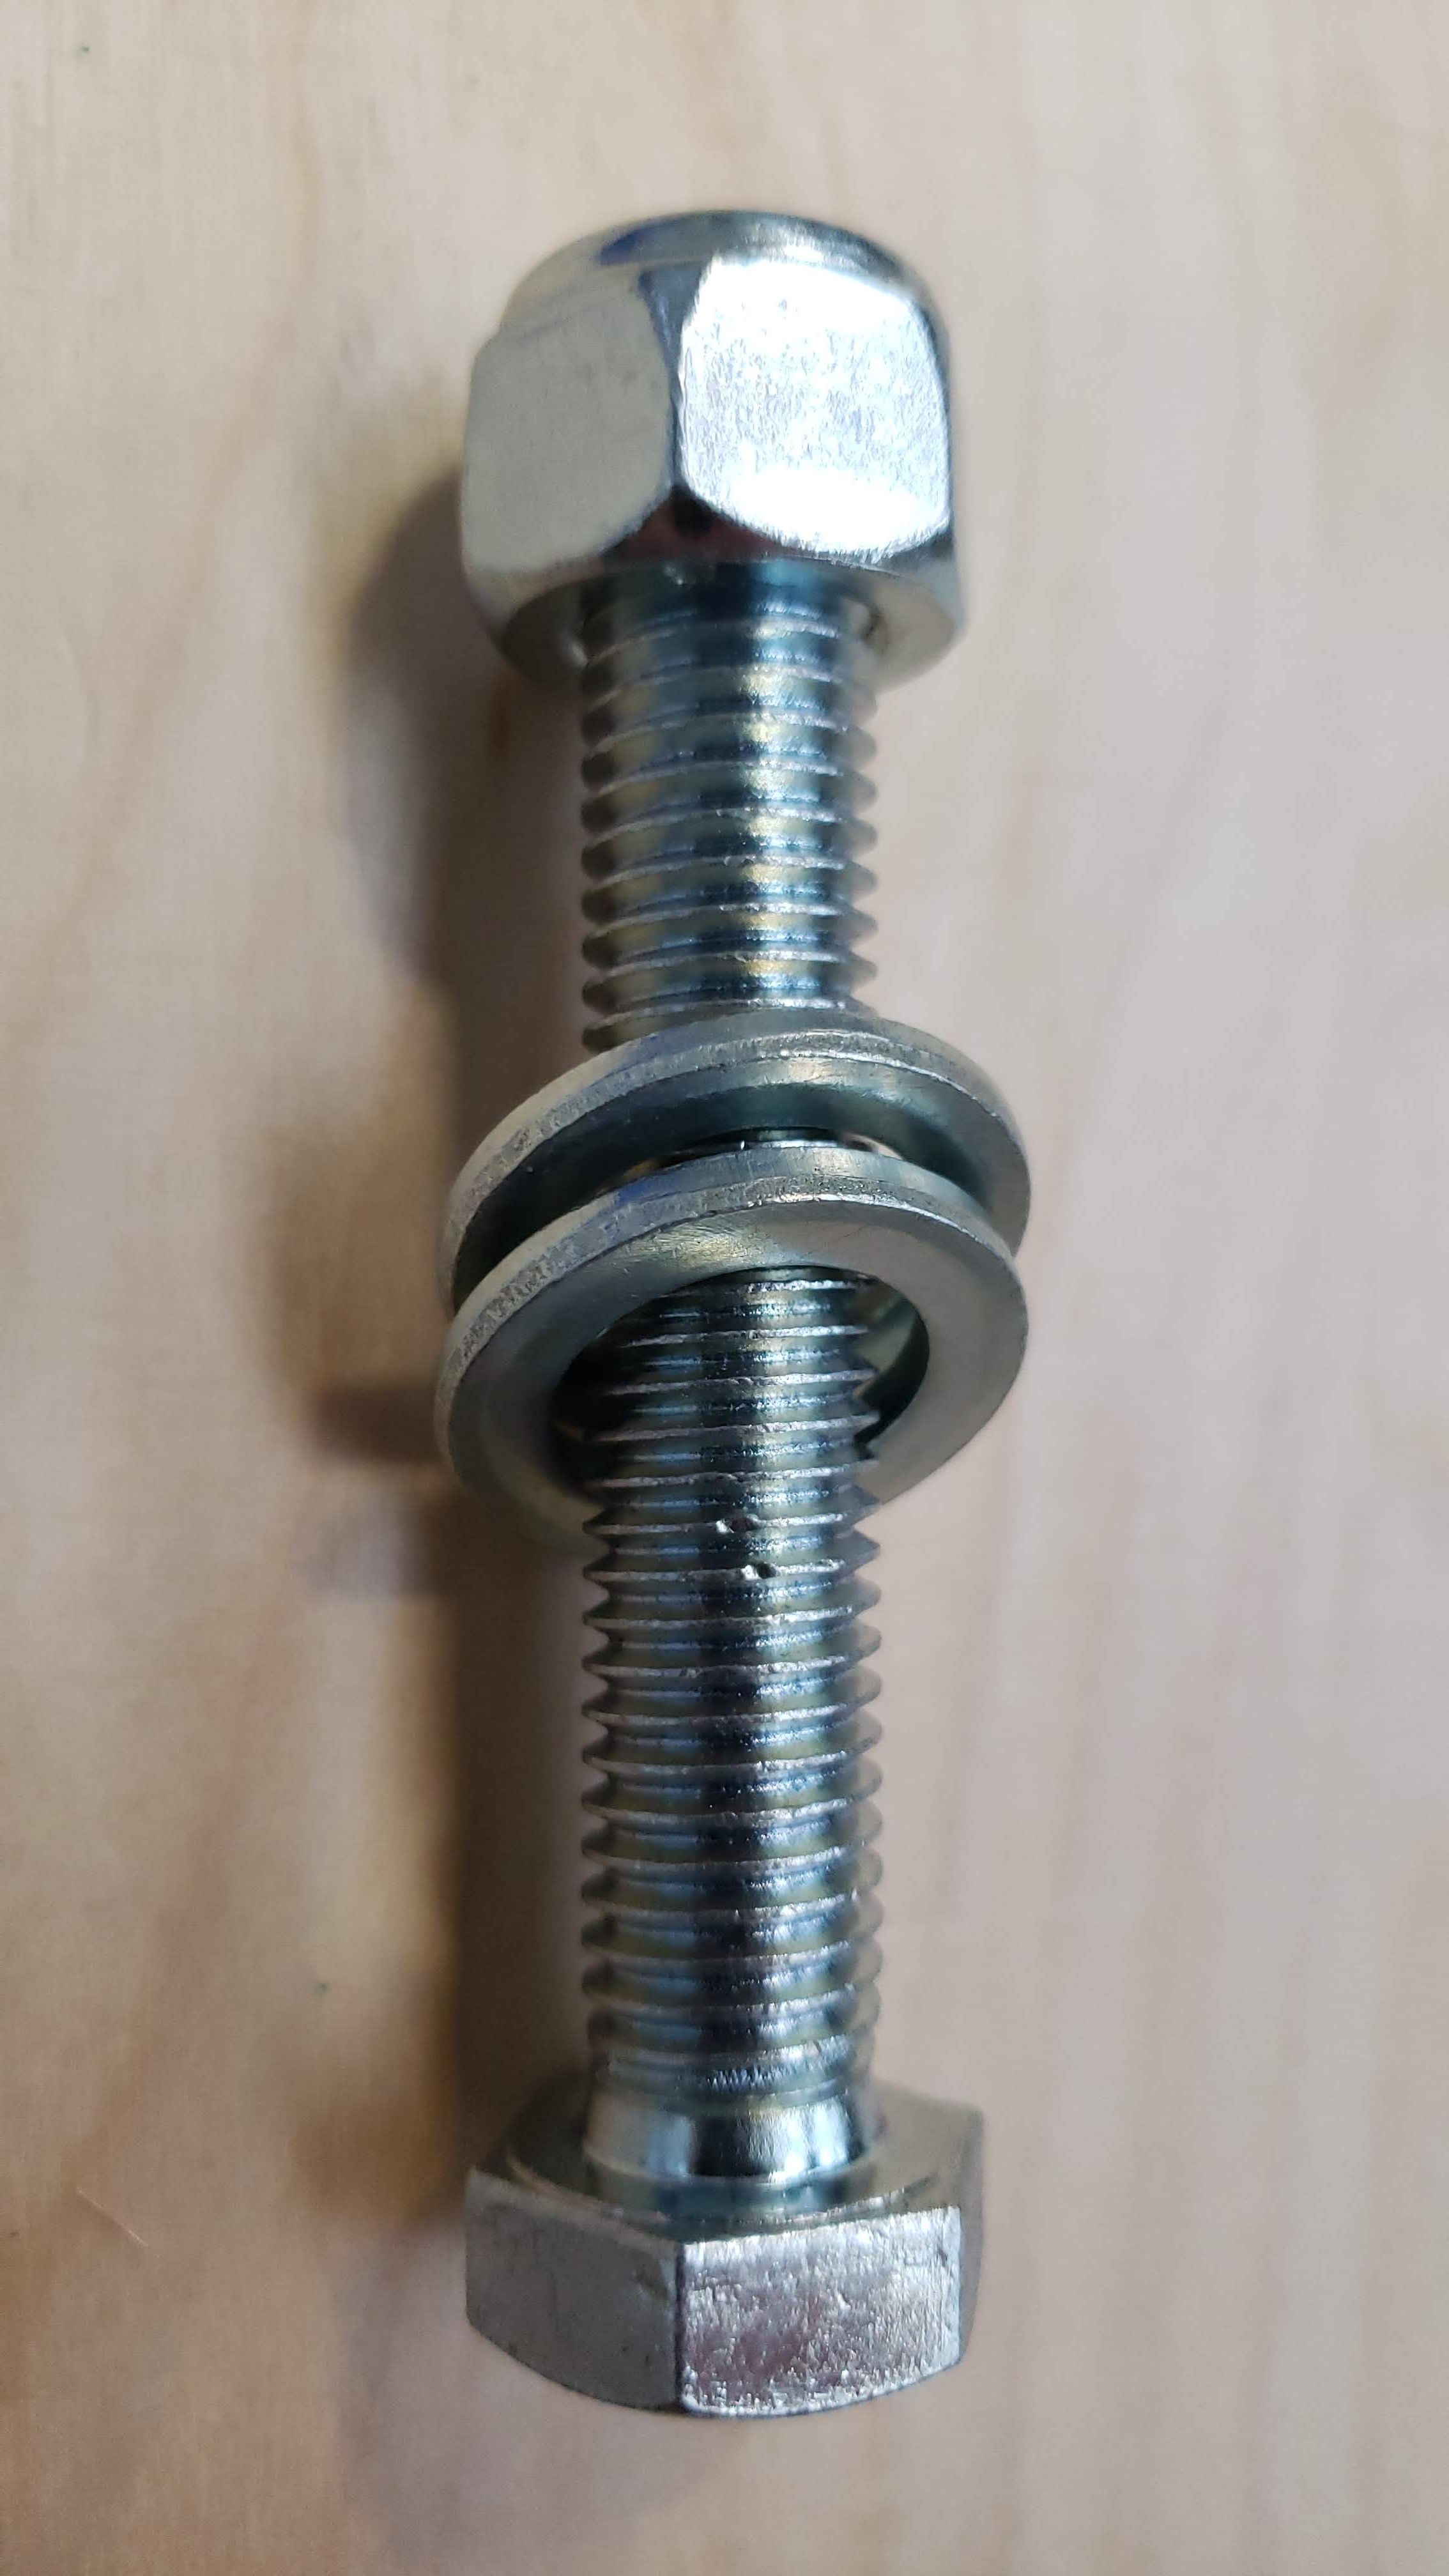FinishedAssembly: (324, 147, 1099, 2436)
